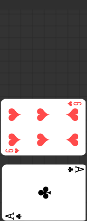4H: (66, 101, 82, 108)
AC: (4, 212, 22, 221)
